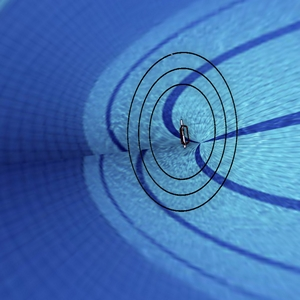circle: (100, 21, 251, 219)
submarine: (171, 116, 197, 156)
